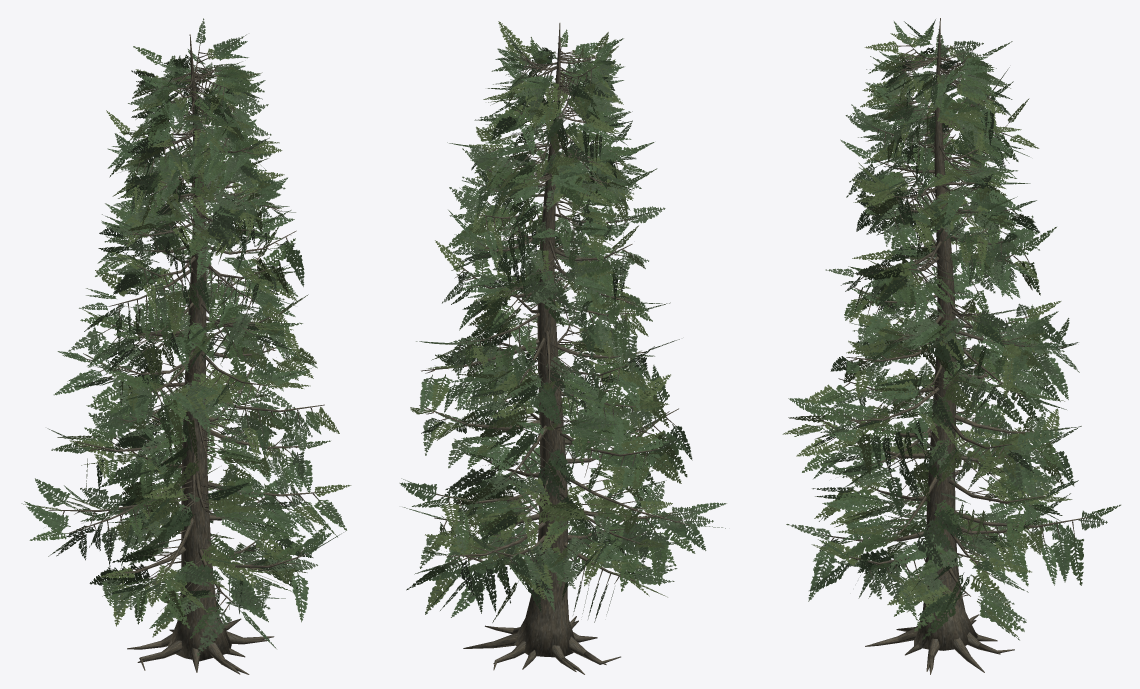
Rendered from FOREST_Spruce_A_LOD2.fbx.
The picture shows the model from 3 angles, left to right: view 1: azimuth 30°, elevation 25°; view 2: azimuth 150°, elevation 25°; view 3: azimuth 270°, elevation 25°; orthographic projection.
Parts seen in each view (by area): view 1: SPRUCE_A_Needles_LOD2, SPRUCE_A_Wood_LOD2; view 2: SPRUCE_A_Needles_LOD2, SPRUCE_A_Wood_LOD2; view 3: SPRUCE_A_Needles_LOD2, SPRUCE_A_Wood_LOD2.
Part boxes in pixels (box(x1,y1,x2,y2)): SPRUCE_A_Needles_LOD2: box(21, 18, 351, 656); SPRUCE_A_Wood_LOD2: box(48, 34, 324, 674); SPRUCE_A_Needles_LOD2: box(399, 21, 726, 622); SPRUCE_A_Wood_LOD2: box(419, 23, 690, 674); SPRUCE_A_Needles_LOD2: box(782, 19, 1120, 640); SPRUCE_A_Wood_LOD2: box(815, 18, 1088, 674).
Size of the model in its own units: 6.23 by 11.9 by 6.19.
